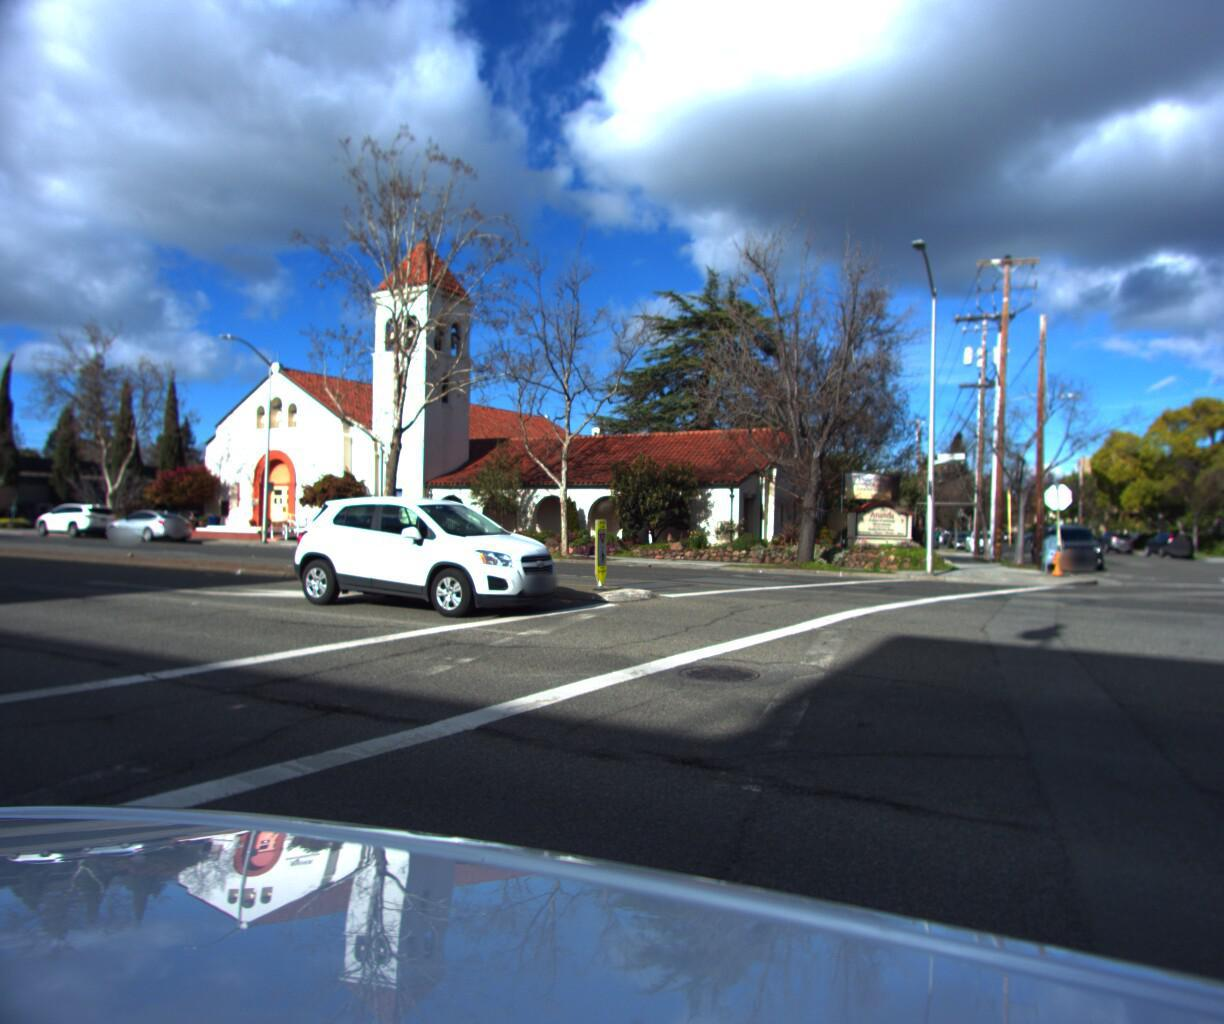car: (276, 492, 579, 622), (1020, 524, 1112, 570), (27, 505, 124, 547), (96, 514, 200, 548), (1141, 528, 1199, 556), (961, 527, 1003, 552), (1091, 528, 1137, 551), (943, 527, 975, 548)
